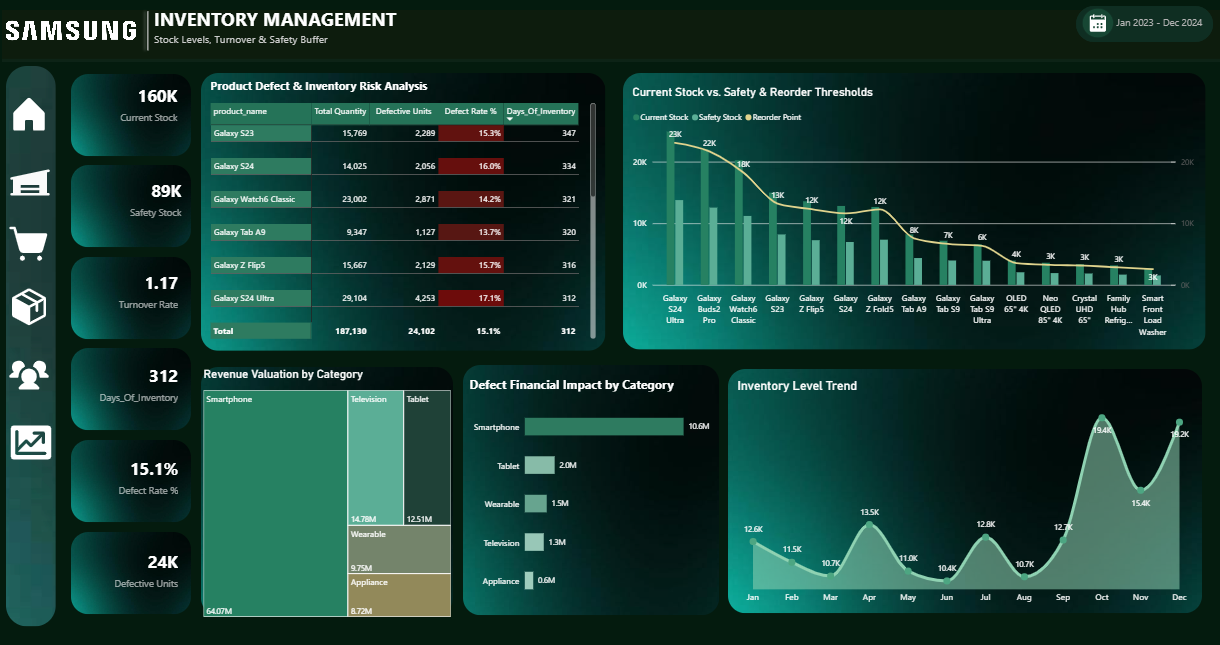

Layout of this report page (visuals, bound fields, positions):
{"tool":"powerbi","page":{"name":"Inventory","canvas":[2035,1080],"ordinal":2},"visuals":[{"type":"shape","box":[0,12.9,2077,91.6],"z":0},{"type":"image","box":[1040,124,970.6,461.1],"z":1000},{"type":"image","box":[337.1,613,420,414],"z":2000},{"type":"image","box":[1215.7,616.4,790,407.1],"z":3000},{"type":"image","box":[773.3,610,426.7,416.7],"z":4000},{"type":"image","box":[337.1,123.1,674.3,462.9],"z":5000},{"type":"image","box":[119.4,887.9,200.2,137],"z":6000},{"type":"image","box":[119.4,735.2,200.2,137],"z":7000},{"type":"image","box":[119.4,582.4,200.2,137],"z":8000},{"type":"image","box":[119.4,429.7,200.2,137],"z":9000},{"type":"image","box":[119.4,276.9,200.2,137],"z":10000},{"type":"image","box":[119.4,124.2,200.2,137],"z":11000},{"type":"cardVisual","fields":{"Data":["Measures_table.Inventory Quantity"]},"box":[118.8,105.7,195.7,142.6],"z":12000},{"type":"cardVisual","fields":{"Data":["Measures_table.Safety Stock"]},"box":[124.3,262.9,195.7,142.6],"z":13000},{"type":"cardVisual","fields":{"Data":["Measures_table.Turnover Rate"]},"box":[118.6,416.1,196.2,142.6],"z":14000},{"type":"cardVisual","fields":{"Data":["Measures_table.Days Of Inventory"]},"box":[118.6,571.3,196.2,142.6],"z":15000},{"type":"cardVisual","fields":{"Data":["Measures_table.Defect Rate %"]},"box":[118.6,726.5,196.2,142.6],"z":16000},{"type":"cardVisual","fields":{"Data":["Sum(fact_production.defective_units)"]},"box":[123.5,881.9,191.4,142.3],"z":17000},{"type":"pivotTable","title":"Product Defect & Inventory Risk Analysis","fields":{"Rows":["dim_product.product_name"],"Values":["Measures_table.Total Quantity","Measures_table.Defective Units","Measures_table.Defect Rate %","Measures_table.Days_Of_Inventory"]},"box":[337.1,118.6,674.3,464.3],"z":18000},{"type":"lineClusteredColumnComboChart","title":"Current Stock vs. Safety & Reorder Thresholds","fields":{"Category":["dim_product.product_name"],"Y":["Measures_table.Inventory Quantity","Measures_table.Safety Stock"],"Y2":["Measures_table.Reorder Point"]},"box":[1040,130,970,452.9],"z":19000},{"type":"lineChart","title":"Inventory Level Trend","fields":{"Category":["dim_date.quarter","dim_date.year","dim_date.short_month_name"],"Y":["Measures_table.Inventory Quantity"]},"box":[1215.7,618.6,794.3,408.6],"z":20000},{"type":"treemap","title":"Revenue Valuation by Category","fields":{"Group":["dim_product.category"],"Values":["Measures_table.Inventory revenue"]},"box":[324.3,600,444.3,445.7],"z":21000},{"type":"barChart","title":"Defect Financial Impact by Category","fields":{"Category":["dim_product.category"],"Y":["Measures_table.Total Defect Cost"]},"box":[768.3,613.3,431.7,415],"z":22000},{"type":"shape","box":[1795.7,11.4,228.6,60],"z":23000},{"type":"shape","box":[1805.7,15.7,52.9,50],"z":24000},{"type":"shape","title":"INVENTORY MANAGEMENT","box":[258.6,11.4,457.1,82.9],"z":25000},{"type":"shape","box":[161.4,11.4,172.9,82.9],"z":26000},{"type":"image","box":[0,0,238.9,105.8],"z":27000},{"type":"textbox","box":[1842.9,28.6,181.4,32.9],"z":28000},{"type":"image","box":[1812.9,20,35.7,41.4],"z":29000},{"type":"image","box":[11.4,111.4,82.9,934.3],"z":30000},{"type":"image","box":[15,134.3,70,115],"z":31000},{"type":"image","box":[14.3,454.3,70,115],"z":32000},{"type":"image","box":[14.3,350,70,115],"z":33000},{"type":"image","box":[17.1,250,70,115],"z":34000},{"type":"image","box":[15,566.3,70,115],"z":35000},{"type":"image","box":[11.7,681.7,83.3,115],"z":36000}]}

Visuals, with their boxes in screenshot pixels (x1, y1, x2, y2), scaled from the page's 2035x1080 canvas onto the 1220x645 screenshot:
shape: bbox=[0, 8, 1219, 62]
image: bbox=[623, 74, 1205, 349]
image: bbox=[202, 366, 454, 613]
image: bbox=[729, 368, 1202, 611]
image: bbox=[464, 364, 719, 613]
image: bbox=[202, 74, 606, 350]
image: bbox=[72, 530, 192, 612]
image: bbox=[72, 439, 192, 521]
image: bbox=[72, 348, 192, 430]
image: bbox=[72, 257, 192, 338]
image: bbox=[72, 165, 192, 247]
image: bbox=[72, 74, 192, 156]
cardVisual - Measures_table.Inventory Quantity: bbox=[71, 63, 189, 148]
cardVisual - Measures_table.Safety Stock: bbox=[75, 157, 192, 242]
cardVisual - Measures_table.Turnover Rate: bbox=[71, 249, 189, 334]
cardVisual - Measures_table.Days Of Inventory: bbox=[71, 341, 189, 426]
cardVisual - Measures_table.Defect Rate %: bbox=[71, 434, 189, 519]
cardVisual - Sum(fact_production.defective_units): bbox=[74, 527, 189, 612]
"Product Defect & Inventory Risk Analysis" pivotTable: bbox=[202, 71, 606, 348]
"Current Stock vs. Safety & Reorder Thresholds" lineClusteredColumnComboChart: bbox=[623, 78, 1205, 348]
"Inventory Level Trend" lineChart: bbox=[729, 369, 1205, 613]
"Revenue Valuation by Category" treemap: bbox=[194, 358, 461, 625]
"Defect Financial Impact by Category" barChart: bbox=[461, 366, 719, 614]
shape: bbox=[1077, 7, 1214, 43]
shape: bbox=[1083, 9, 1114, 39]
"INVENTORY MANAGEMENT" shape: bbox=[155, 7, 429, 56]
shape: bbox=[97, 7, 200, 56]
image: bbox=[0, 0, 143, 63]
textbox: bbox=[1105, 17, 1214, 37]
image: bbox=[1087, 12, 1108, 37]
image: bbox=[7, 67, 57, 625]
image: bbox=[9, 80, 51, 149]
image: bbox=[9, 271, 51, 340]
image: bbox=[9, 209, 51, 278]
image: bbox=[10, 149, 52, 218]
image: bbox=[9, 338, 51, 407]
image: bbox=[7, 407, 57, 476]
